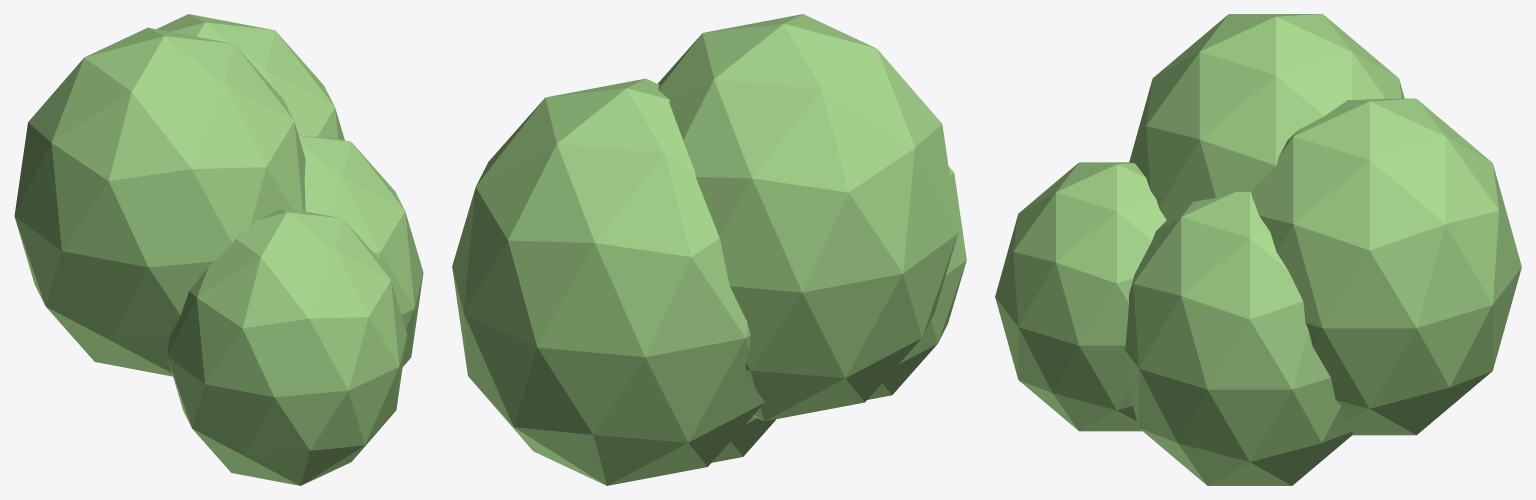
The model's file is bush_1.glb.
3 renders of one model, left to right at view 1: azimuth 30°, elevation 25°; view 2: azimuth 150°, elevation 25°; view 3: azimuth 270°, elevation 25°, orthographic. The views are drawn at different scales.
Parts seen in each view (by area): view 1: Icosphere.003; view 2: Icosphere.003; view 3: Icosphere.003.
Boxes of the visible parts, box(x1,y1,x2,y2) form: Icosphere.003: box(14, 14, 423, 485); Icosphere.003: box(452, 14, 966, 485); Icosphere.003: box(995, 14, 1521, 485).
Bounding box in the file's own units: 0.7923 × 0.8983 × 1.04.
